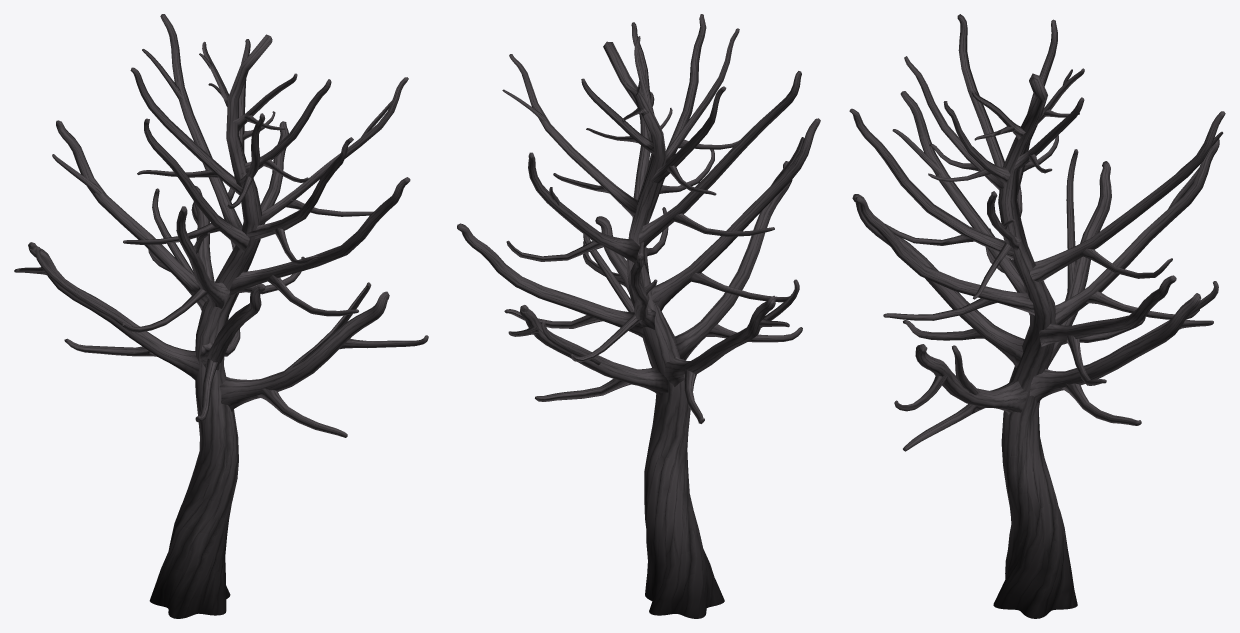
File: dead_tree_1.glb
The picture shows the model from 3 angles, left to right: view 1: azimuth 30°, elevation 25°; view 2: azimuth 150°, elevation 25°; view 3: azimuth 270°, elevation 25°; orthographic projection. The views are drawn at different scales.
Parts seen in each view (by area): view 1: DeadTree_1; view 2: DeadTree_1; view 3: DeadTree_1.
Part boxes in pixels (x1=…): DeadTree_1: x1=14, y1=14, x2=428, y2=618; DeadTree_1: x1=457, y1=14, x2=820, y2=618; DeadTree_1: x1=849, y1=14, x2=1225, y2=618.
Size of the model in its own units: 6.15 by 9.5 by 5.75.
Materials: 1 (1 with a texture image).
